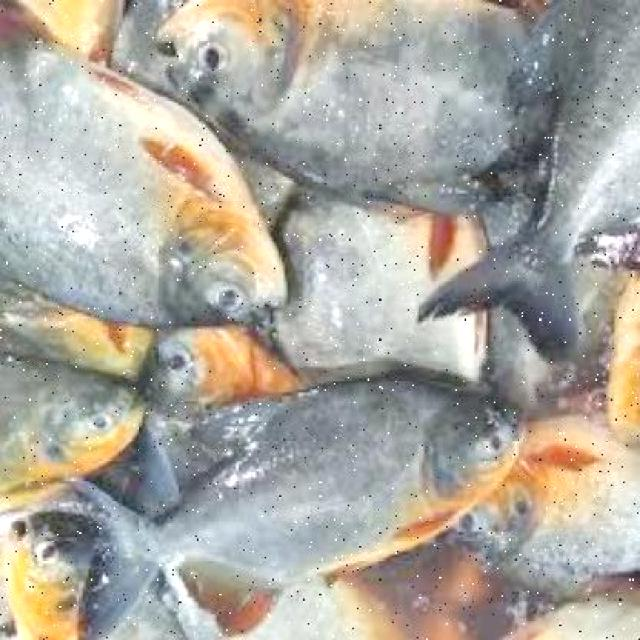ikan-pacu: (80, 370, 526, 624), (1, 31, 294, 327), (163, 0, 526, 194), (1, 347, 134, 481)
